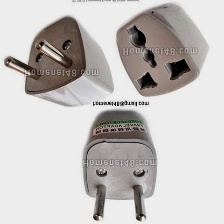three_eye_plug: (1, 11, 116, 113), (111, 0, 216, 100), (80, 105, 158, 221)
